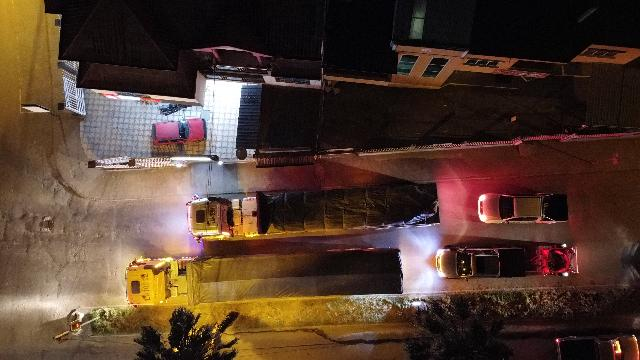Vehiculo: (436, 248, 526, 279), (478, 194, 569, 224), (151, 118, 206, 145)
